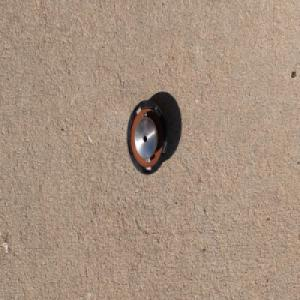FuelCap: (125, 99, 168, 176)
